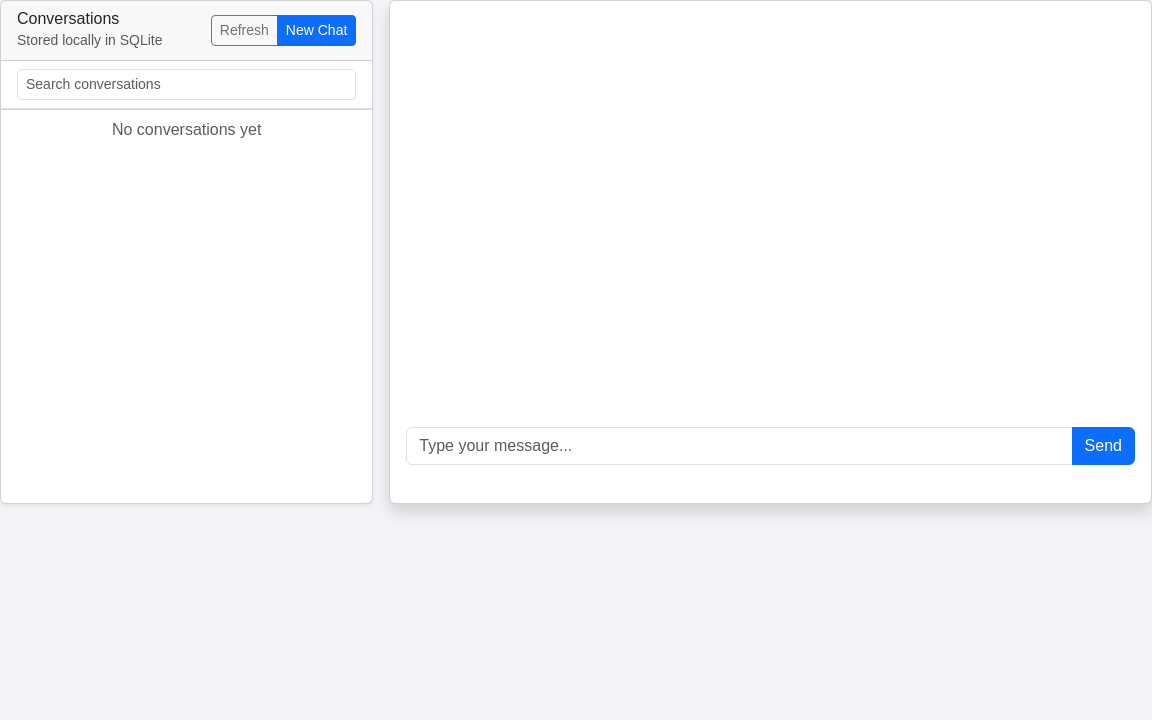
Test: ChatBox › sends a message via sync fallback when streaming disabled
Type "Hello" into the field with placeholder "Type your message..." at (739, 446), box [406,427,1073,465]
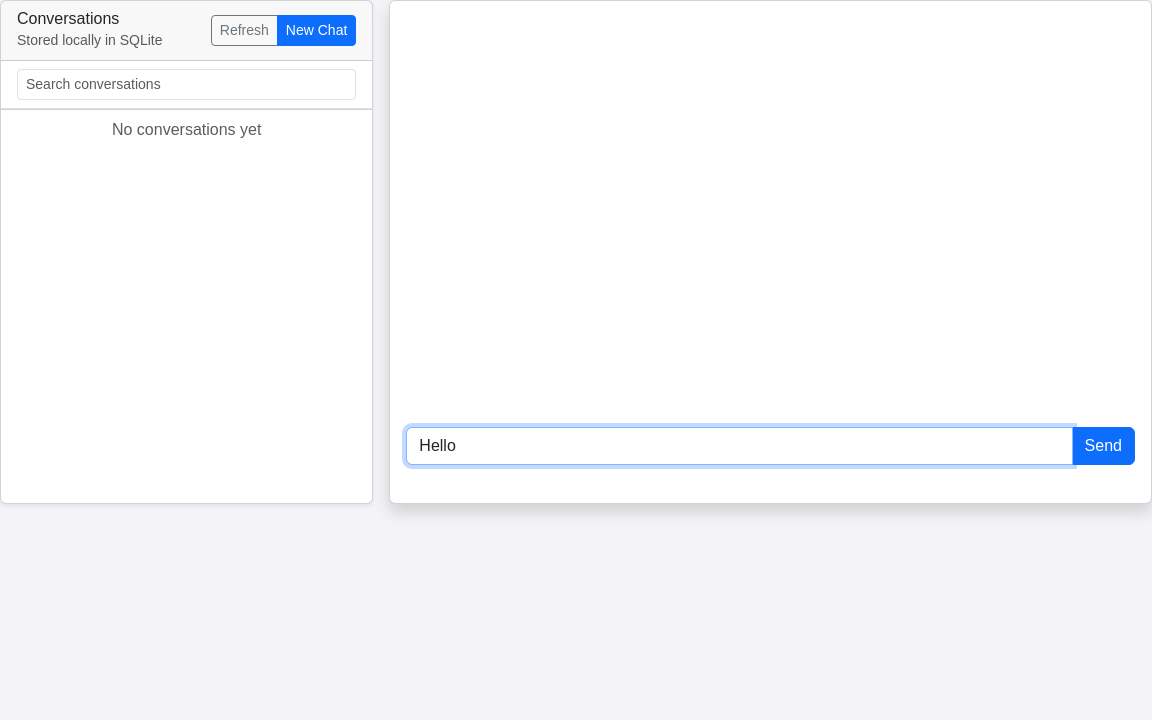
Click the button "Send" at (1103, 446), box [1072,427,1135,465]
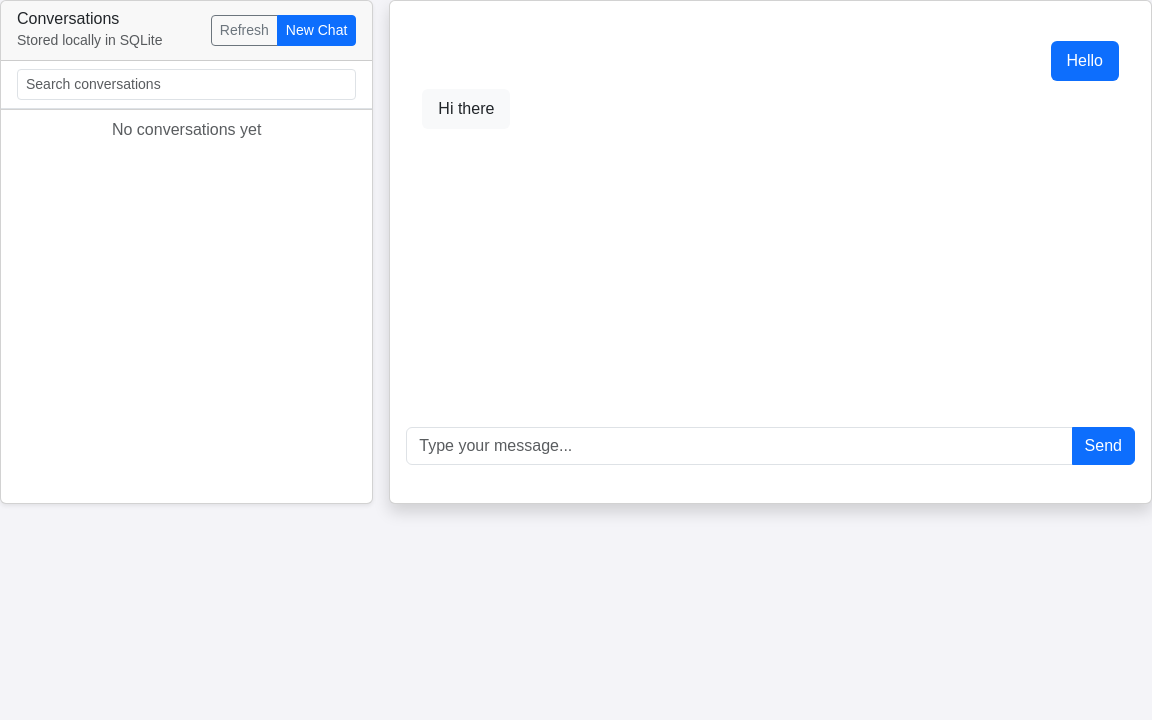
Now the text "Hi there" is shown, box [422,89,510,129]
